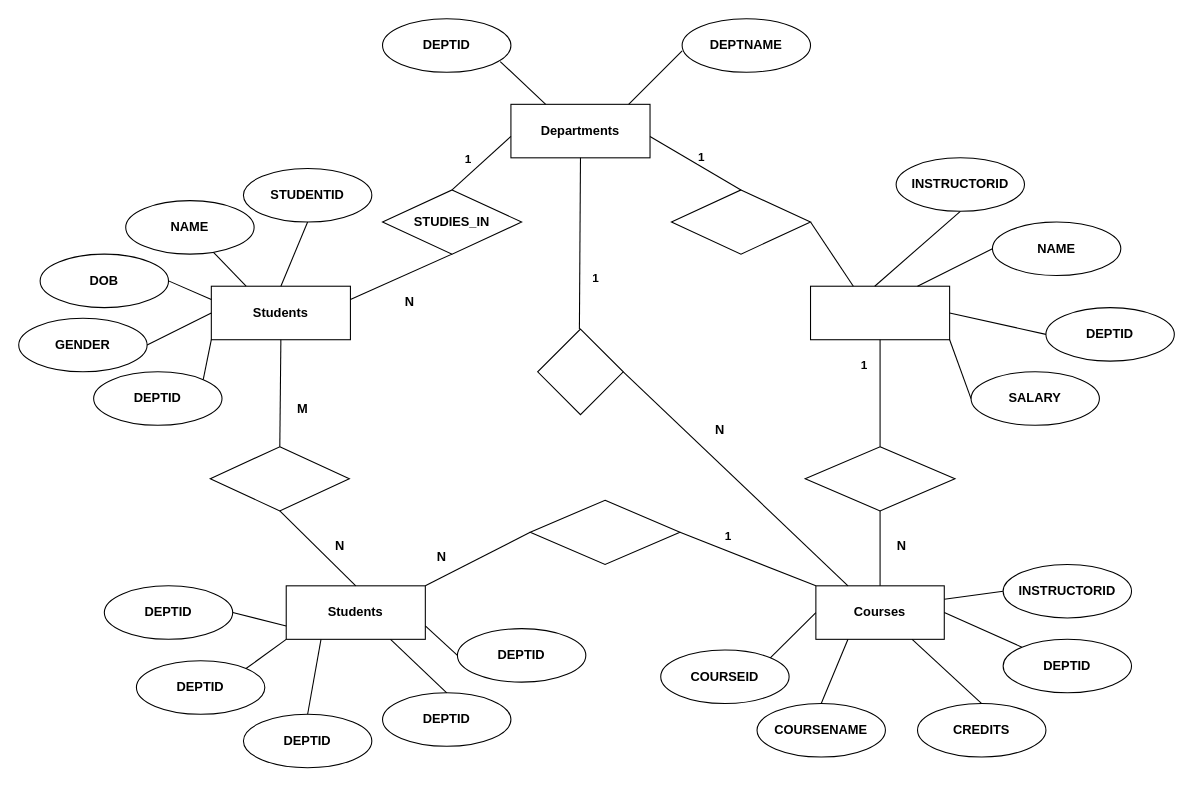
Some shapes in this 1193 by 786 pixel diagram are drawn without their labels. The centre of each missing label's shape, as x and y in pixels:
"ENROLLED_IN" belongs at pixel 279 478.
"HAS_ENROLLMENT" belongs at pixel 604 531.
"Instructors" belongs at pixel 879 312.
"Offers" belongs at pixel 580 371.
"Teaches" belongs at pixel 879 478.
"WORKS IN" belongs at pixel 740 221.
